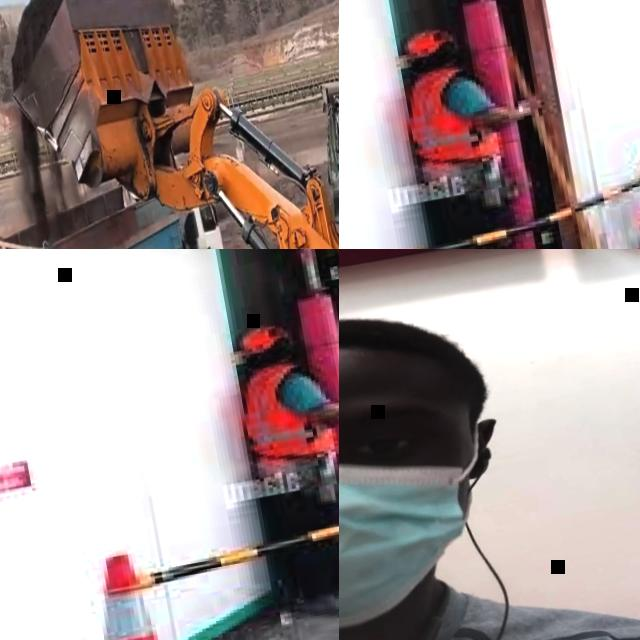Mask: (339, 436, 500, 640)
NO-Hardhat: (339, 297, 482, 422), (234, 322, 290, 352), (400, 26, 454, 56)
NO-Safety Vest: (339, 551, 640, 640), (396, 61, 502, 175), (230, 357, 336, 471)
Person: (339, 251, 640, 640), (384, 7, 585, 249), (219, 303, 339, 623)
Safety Cone: (6, 533, 260, 640)
vehicle: (0, 0, 339, 249), (0, 153, 248, 249)
